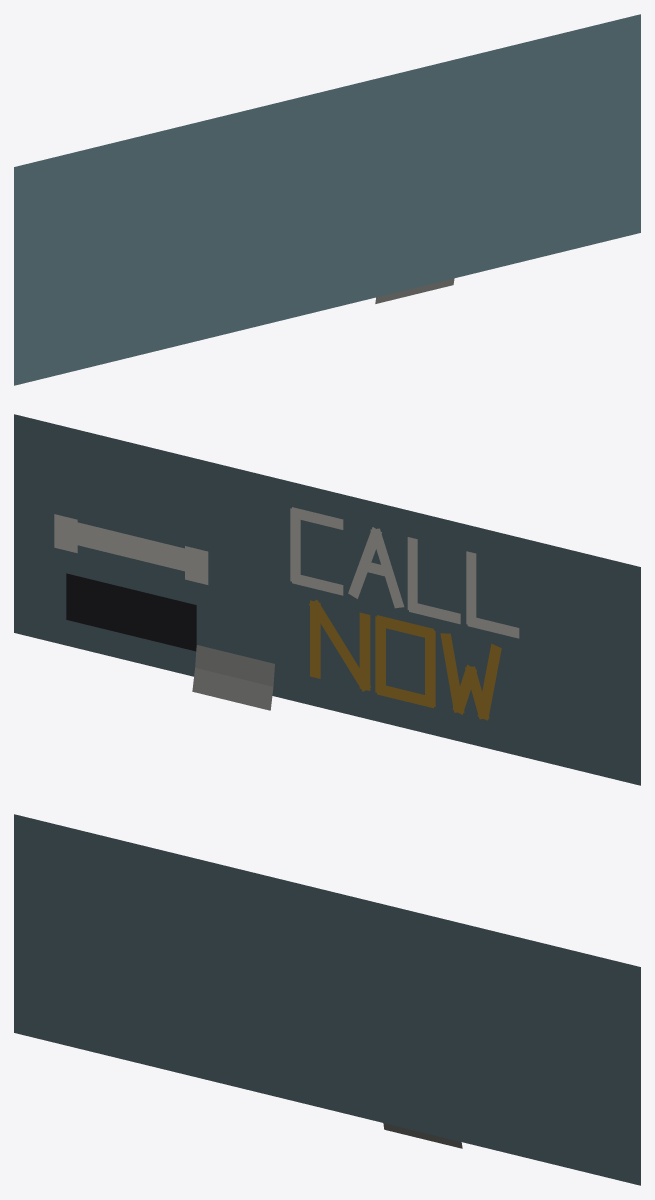
The model's file is billboard_face_b.glb.
The picture shows the model from 3 angles, top to bottom: view 1: azimuth 30°, elevation 25°; view 2: azimuth 150°, elevation 25°; view 3: azimuth 330°, elevation 25°; orthographic projection.
Visible parts, largest first — view 1: billboard_face_b; view 2: billboard_face_b; view 3: billboard_face_b.
Boxes of the visible parts, left/top/right/bottom form: billboard_face_b: left=14, top=14, right=640, bottom=385; billboard_face_b: left=14, top=414, right=640, bottom=785; billboard_face_b: left=14, top=814, right=640, bottom=1185.
Size of the model in its own units: 12 by 4.2 by 0.15.
3 materials, 3 textured.
